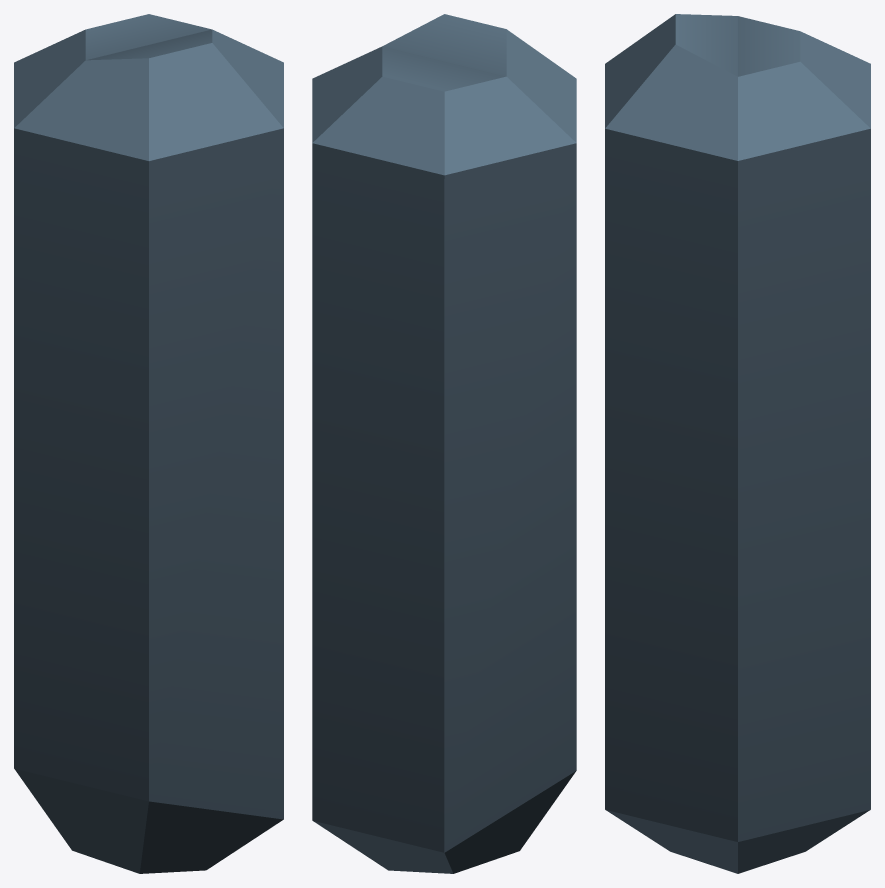
File: geology-crystals-calcitecrystal_v8.glb
The picture shows the model from 3 angles, left to right: view 1: azimuth 30°, elevation 25°; view 2: azimuth 150°, elevation 25°; view 3: azimuth 270°, elevation 25°; orthographic projection. The views are drawn at different scales.
Visible parts, largest first — view 1: CalciteCrystal_v8; view 2: CalciteCrystal_v8; view 3: CalciteCrystal_v8.
Part boxes in pixels (left/top/right/bottom): CalciteCrystal_v8: left=14, top=14, right=283, bottom=873; CalciteCrystal_v8: left=312, top=14, right=576, bottom=873; CalciteCrystal_v8: left=605, top=14, right=870, bottom=873.
Bounding box in the file's own units: 1.39 × 4.09 × 1.21.
